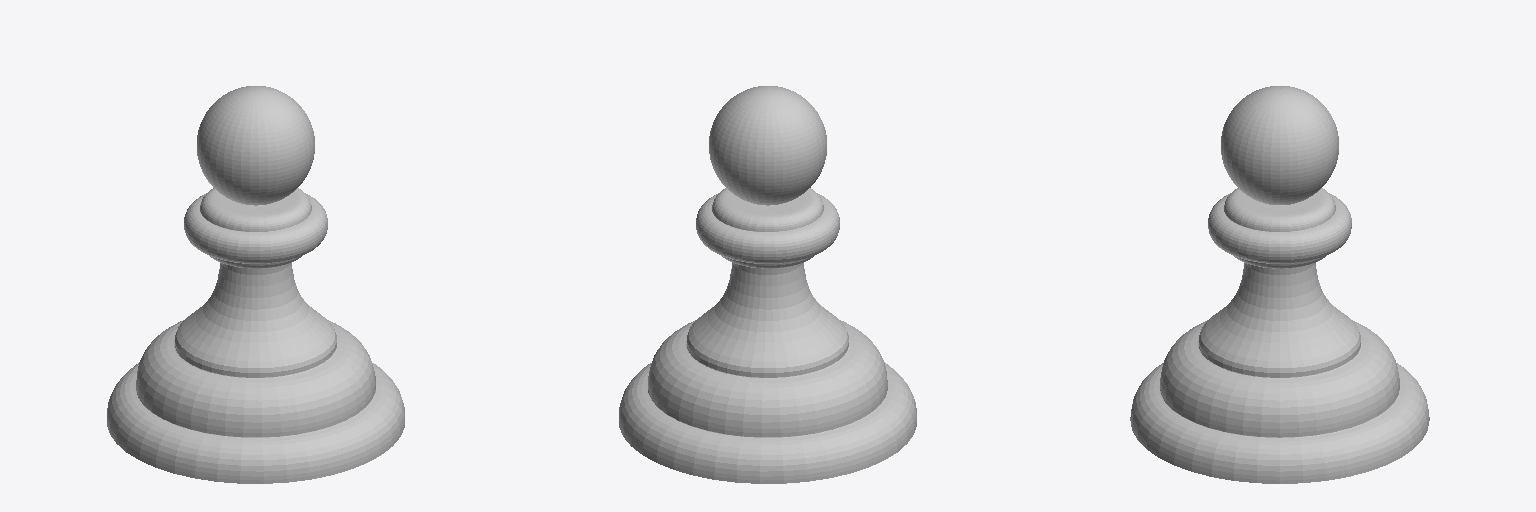
File: finalsoliiderleft1.obj
3 renders of one model, left to right at view 1: azimuth 30°, elevation 25°; view 2: azimuth 150°, elevation 25°; view 3: azimuth 270°, elevation 25°, orthographic.
Visible parts, largest first — view 1: white_pawn1_Mesh.003; view 2: white_pawn1_Mesh.003; view 3: white_pawn1_Mesh.003.
Boxes of the visible parts, x1=… form: white_pawn1_Mesh.003: x1=107, y1=86, x2=404, y2=483; white_pawn1_Mesh.003: x1=619, y1=86, x2=916, y2=483; white_pawn1_Mesh.003: x1=1130, y1=86, x2=1429, y2=483.
Bounding box in the file's own units: 0.489 × 0.5954 × 0.489.